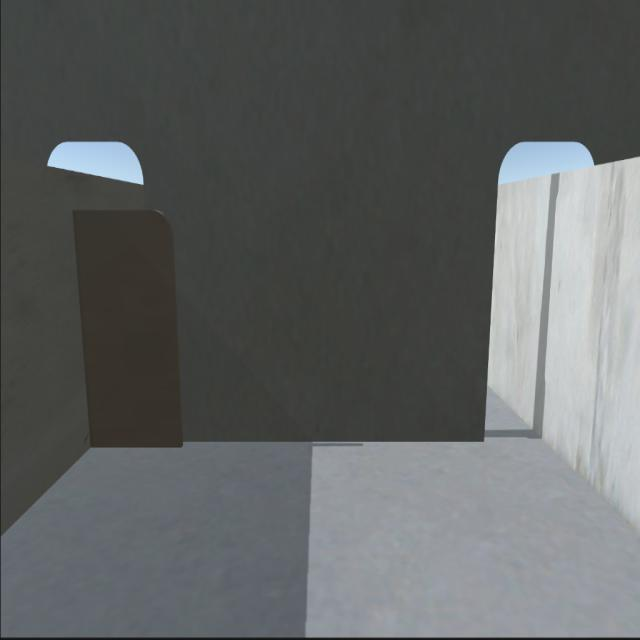fillet_yong_jeop_jang: (89, 436, 482, 450)
longi_yong_jeop_jang: (69, 220, 96, 452)
plate_CP05: (72, 198, 190, 448)
